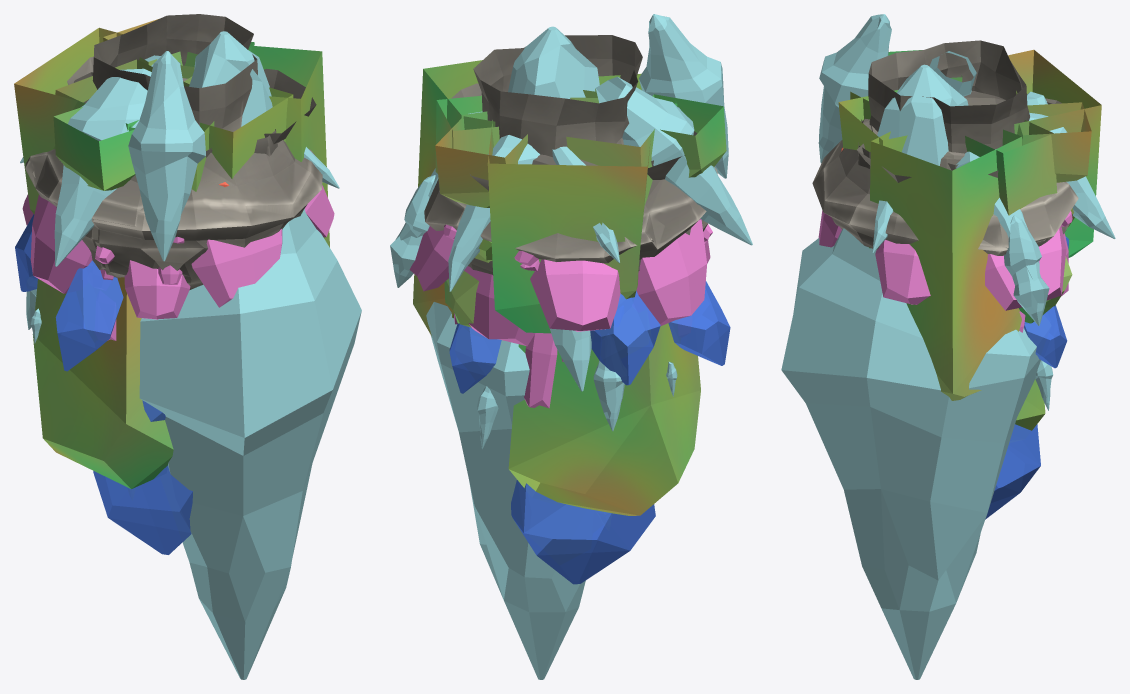
Rendered from Ores.glb.
The picture shows the model from 3 angles, left to right: view 1: azimuth 30°, elevation 25°; view 2: azimuth 150°, elevation 25°; view 3: azimuth 270°, elevation 25°; orthographic projection. The views are drawn at different scales.
Visible parts, largest first — view 1: Object_14, Object_4, Object_13, Object_16, Object_16.001, Object_15, Object_3, Object_15.001; view 2: Object_4, Object_14, Object_16, Object_13, Object_15, Object_15.001, Object_3; view 3: Object_14, Object_4, Object_13, Object_16, Object_16.001, Object_15, Object_3.
Boxes of the visible parts, left/top/right/bottom form: Object_14: left=26, top=31, right=361, bottom=679; Object_4: left=14, top=18, right=329, bottom=488; Object_13: left=20, top=14, right=339, bottom=343; Object_16: left=22, top=78, right=334, bottom=340; Object_16.001: left=32, top=140, right=322, bottom=289; Object_15: left=55, top=260, right=192, bottom=554; Object_3: left=67, top=56, right=316, bottom=157; Object_15.001: left=15, top=214, right=165, bottom=421; Object_4: left=413, top=60, right=726, bottom=515; Object_14: left=390, top=14, right=728, bottom=679; Object_16: left=409, top=154, right=712, bottom=408; Object_13: left=398, top=35, right=752, bottom=449; Object_15: left=449, top=281, right=730, bottom=584; Object_15.001: left=590, top=291, right=660, bottom=385; Object_3: left=444, top=83, right=697, bottom=327; Object_14: left=781, top=14, right=1049, bottom=679; Object_4: left=838, top=49, right=1101, bottom=430; Object_13: left=868, top=40, right=1115, bottom=410; Object_16: left=818, top=91, right=1078, bottom=332; Object_16.001: left=812, top=119, right=1045, bottom=255; Object_15: left=985, top=305, right=1067, bottom=519; Object_3: left=857, top=98, right=1074, bottom=323.
Size of the model in its own units: 1.58 by 3.28 by 1.6.
Materials: 15 (11 with a texture image).
